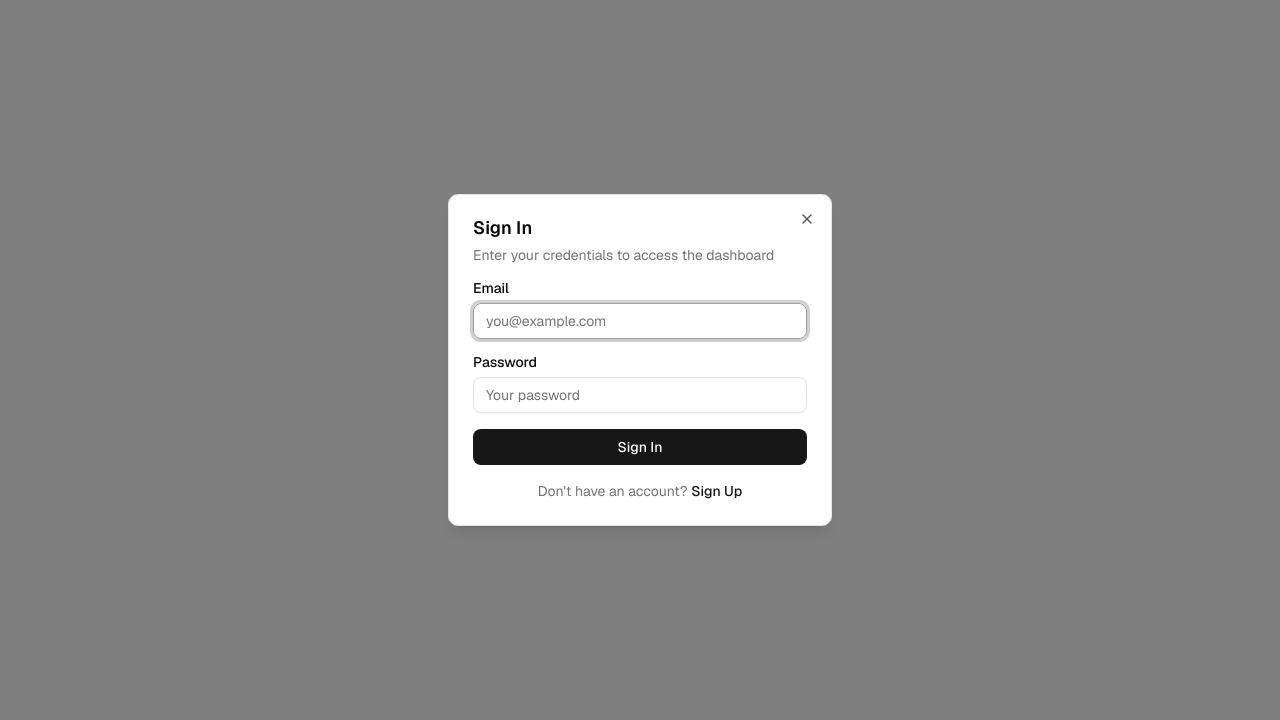
Test: AuthDialog › shows error for invalid email format on login
Type "not-an-email" into the field labelled "Email" at (640, 321), box [473, 303, 807, 339]
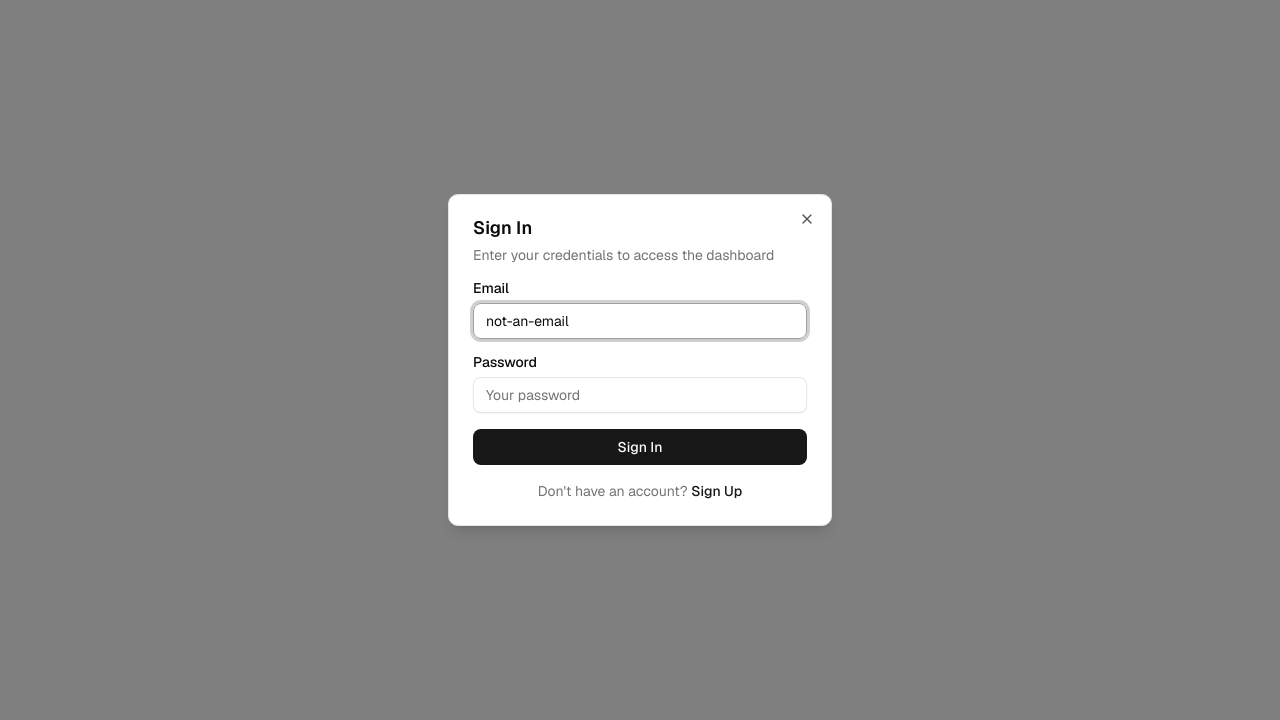
Type "password123" into the password field labelled "Password" at (640, 395), box [473, 377, 807, 413]
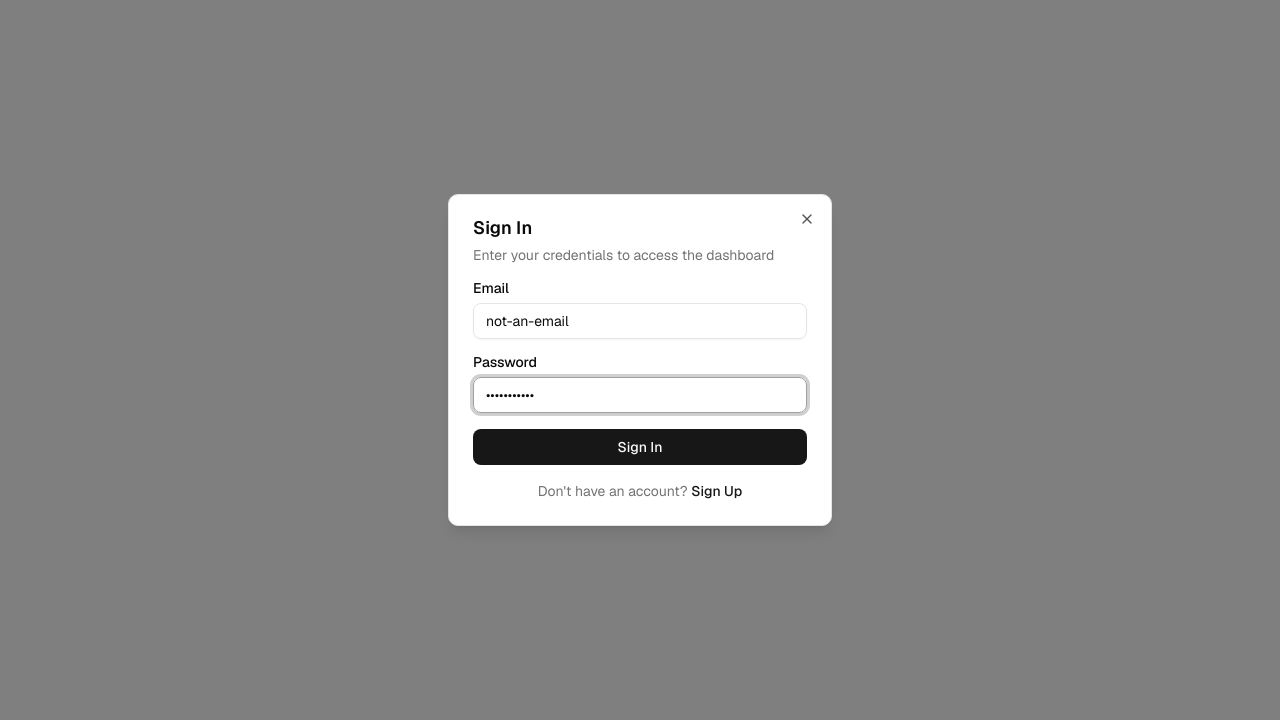
Click the button "Sign In" at (640, 447), box [473, 429, 807, 465]
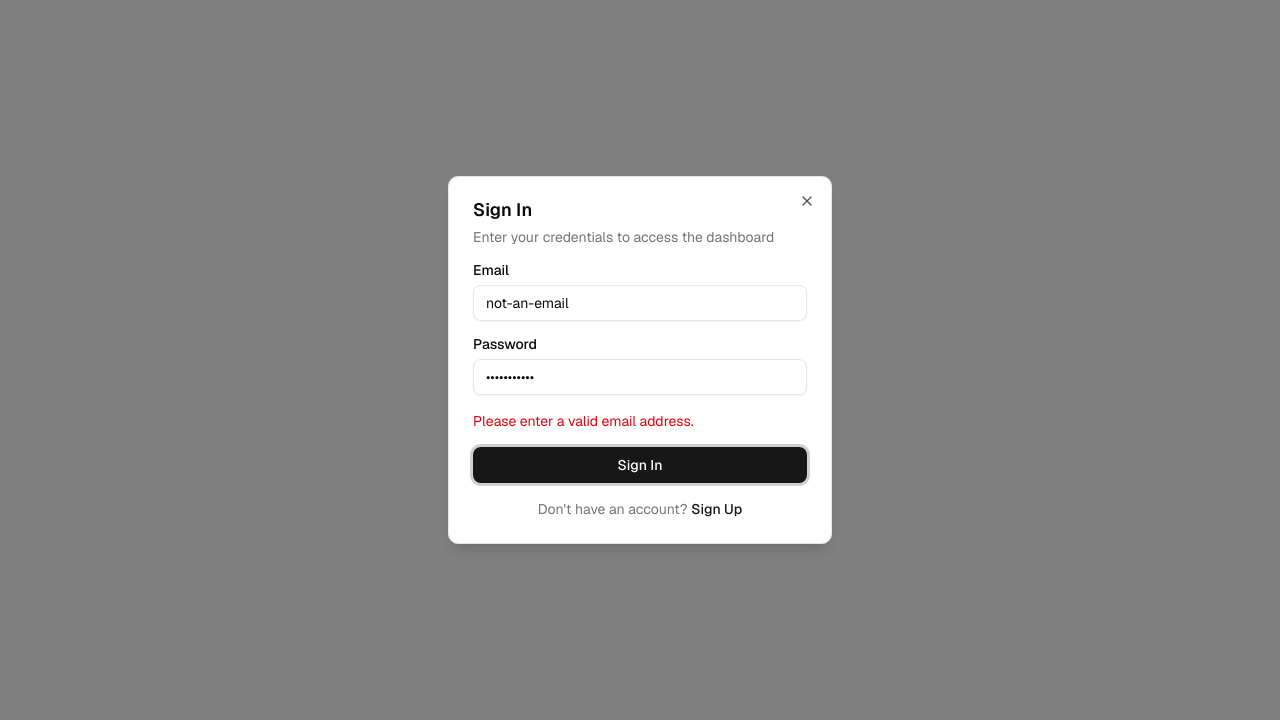
Now the message reads "Please enter a valid email address.", box [473, 412, 694, 430]
